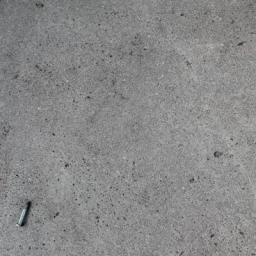FOD: (15, 199, 36, 232)
